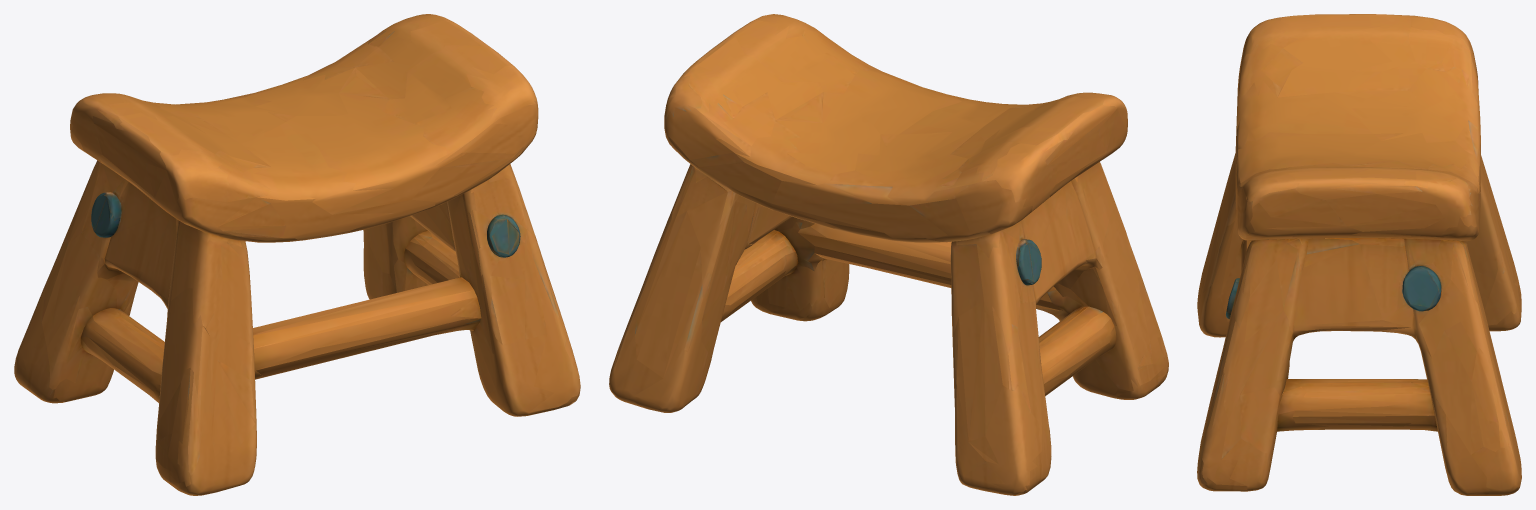
File: saddleStool.glb
3 renders of one model, left to right at view 1: azimuth 30°, elevation 25°; view 2: azimuth 150°, elevation 25°; view 3: azimuth 270°, elevation 25°, orthographic. The views are drawn at different scales.
Parts seen in each view (by area): view 1: Mesh_0; view 2: Mesh_0; view 3: Mesh_0.
Part boxes in pixels (x1,y1,x2,y2): Mesh_0: (14,14,580,495); Mesh_0: (609,14,1168,495); Mesh_0: (1197,14,1521,495).
Bounding box in the file's own units: 1.17 × 0.8316 × 0.8.
Materials: 1 (1 with a texture image).
